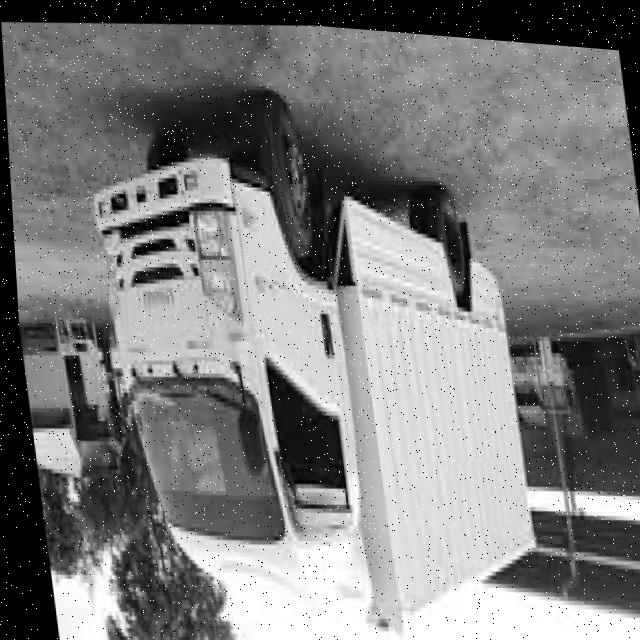truck: (64, 65, 396, 640)
